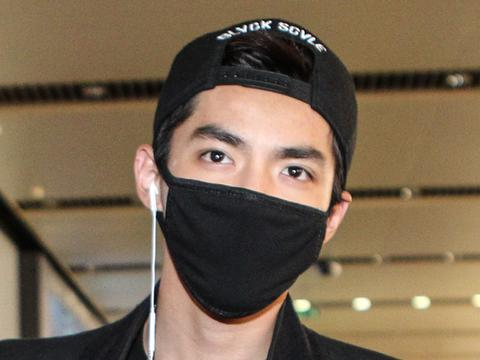face_mask: (163, 88, 336, 280)
